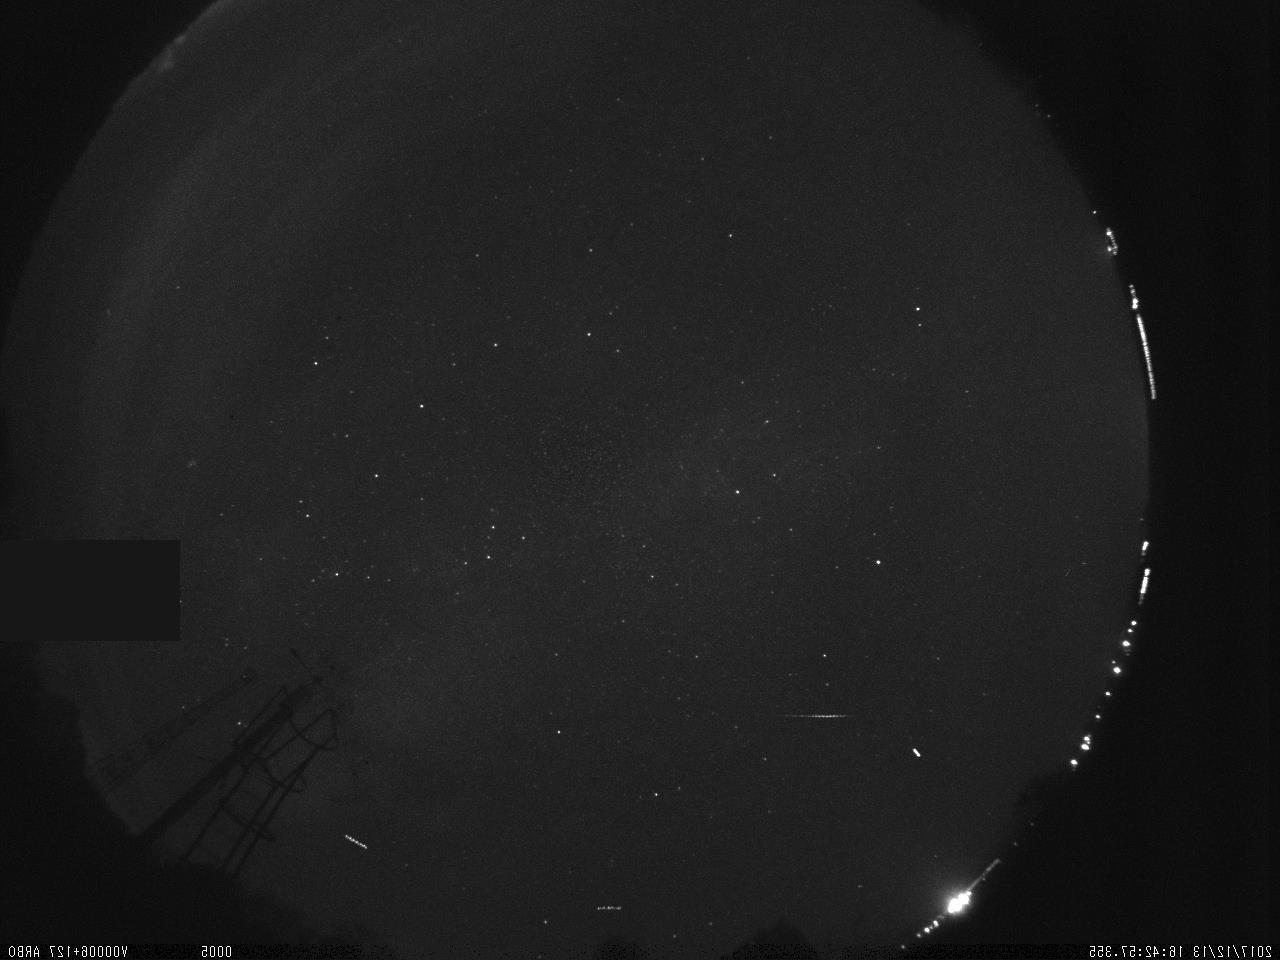meteor: (760, 707, 853, 726)
satelite: (339, 827, 375, 859), (589, 895, 631, 917), (907, 742, 925, 765)
